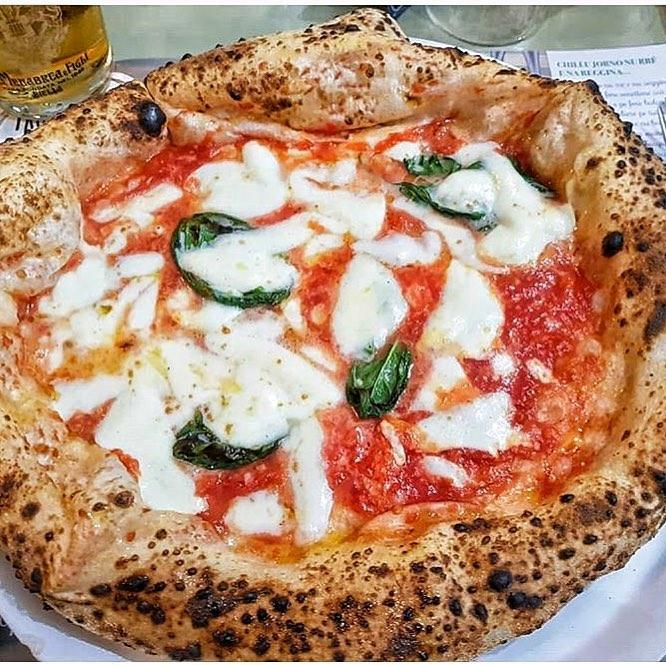Basil: (172, 210, 296, 308), (398, 152, 491, 220), (347, 337, 414, 421), (171, 419, 283, 467)
Cheese: (432, 273, 506, 432), (92, 410, 204, 508), (124, 353, 312, 406), (288, 418, 349, 552), (333, 171, 382, 325), (61, 270, 150, 340), (198, 152, 317, 201), (494, 165, 553, 263), (182, 308, 285, 351), (55, 372, 120, 418)
Pizza: (0, 22, 666, 665)
